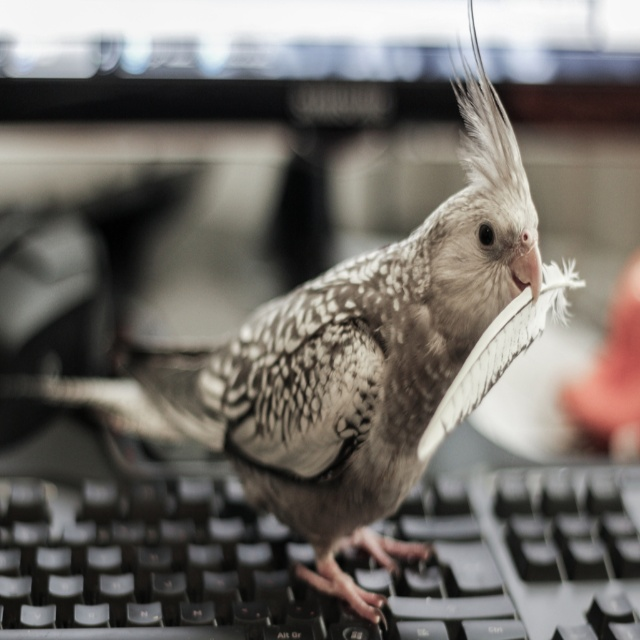Parrot: (112, 0, 545, 620)
